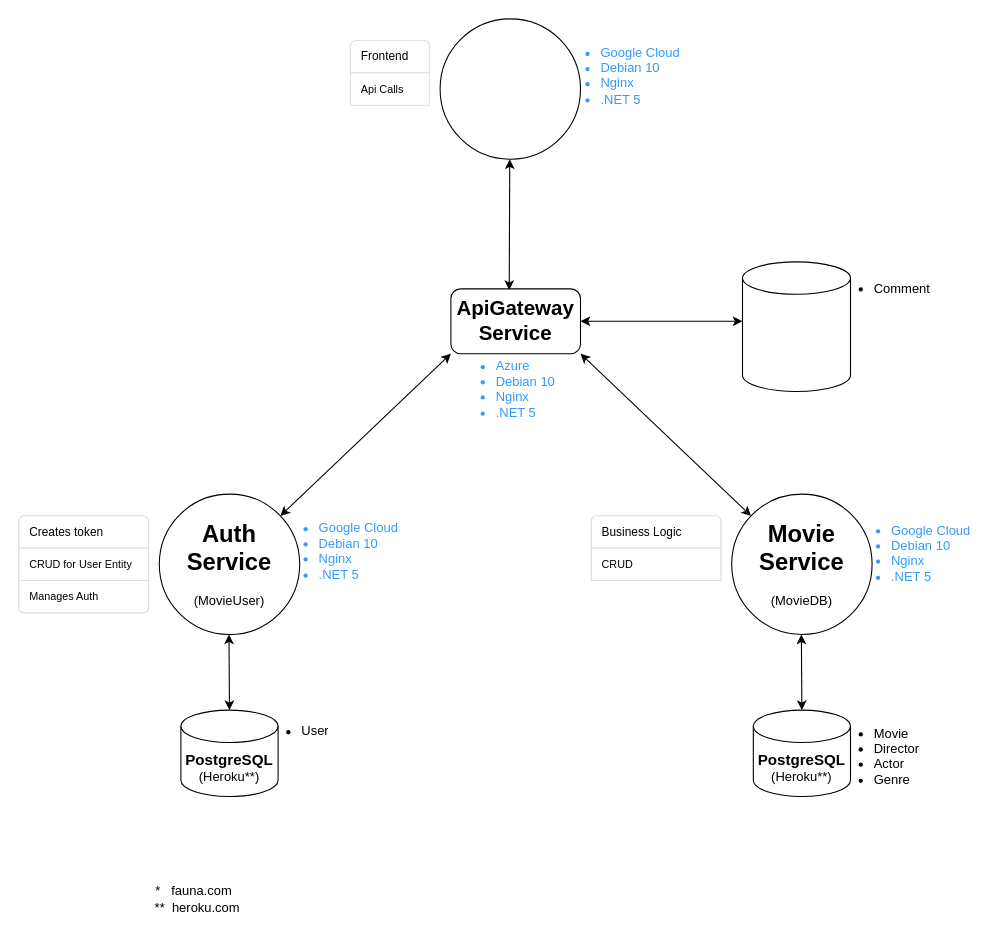
This 1005x934 diagram has some shape labels left out. Here are the shapes that lost their labels. From the top down, the centre of each, then its label:
the point at 509,88: Client Service (MovieHome)
the point at 795,326: GraphQL (Fauna*)
